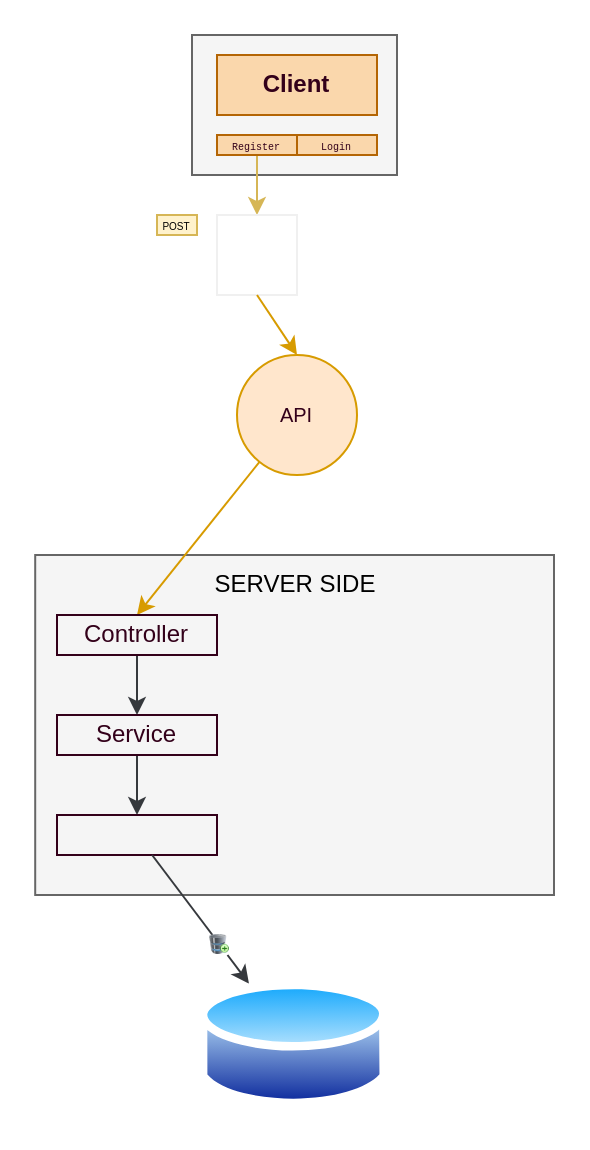
The diagram is 590 pixels wide and 1150 high, and some of its shapes have lost their labels. The shapes that lost their labels are listed below. From the top down, each one's centre as x and y in pixels, then its label:
the point at 256,254: User: Email PW
the point at 136,834: Repository
